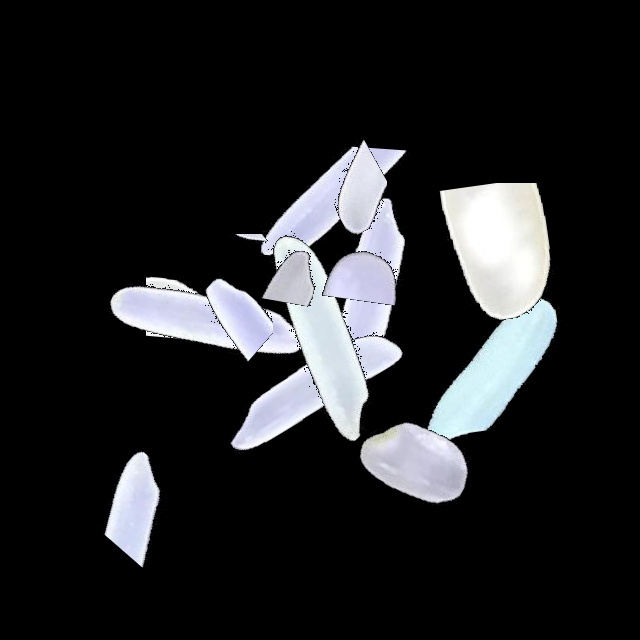Broken: (314, 371, 483, 621), (377, 183, 627, 351), (259, 100, 419, 350), (96, 371, 230, 621), (262, 72, 387, 322), (161, 185, 273, 435), (232, 121, 344, 371), (312, 120, 422, 370), (146, 163, 249, 413), (116, 234, 366, 319)
Full: (243, 173, 493, 423), (367, 242, 617, 492), (85, 196, 335, 446), (186, 261, 436, 511), (196, 209, 446, 459)
